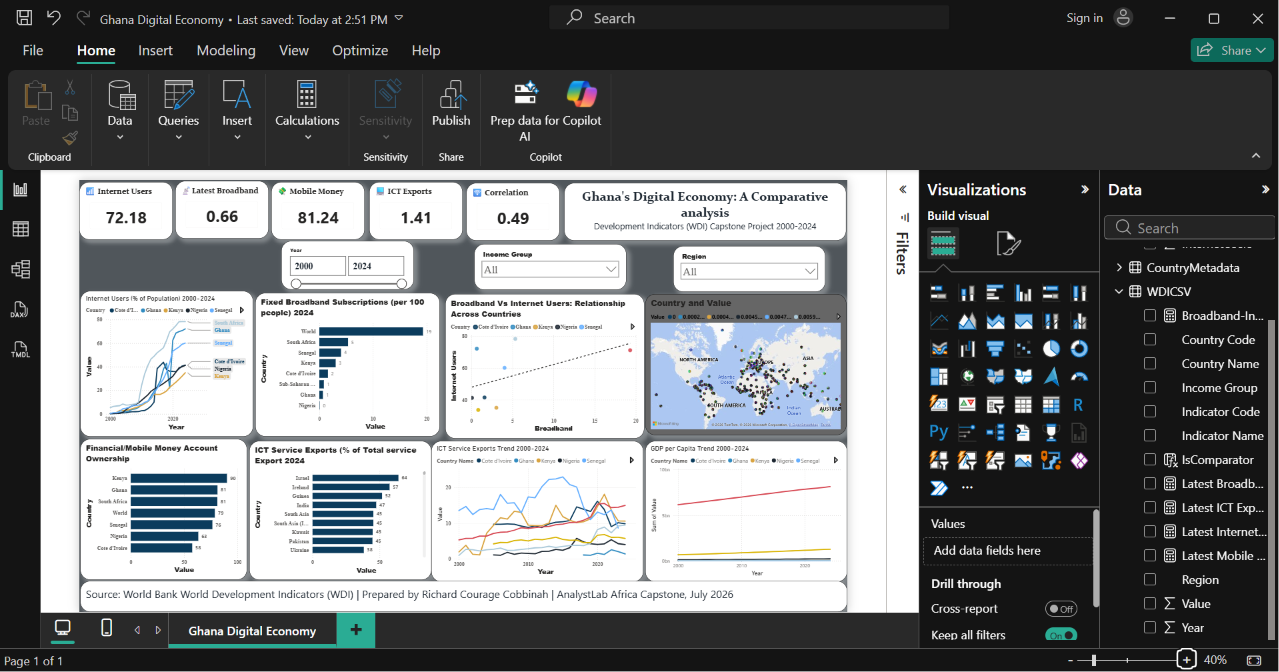

Layout of this report page (visuals, bound fields, positions):
{"tool":"powerbi","page":{"name":"Page 1","canvas":[1920,1080],"ordinal":0},"visuals":[{"type":"cardVisual","title":"📶 Internet Users","fields":{"Data":["WDICSV.Latest Internet Users"]},"box":[0,4,233.3,144],"z":0},{"type":"cardVisual","title":"📡Latest Broadband","fields":{"Data":["WDICSV.Latest Broadband"]},"box":[240.5,3.4,233.6,144],"z":1000},{"type":"cardVisual","title":"💸 Mobile Money","fields":{"Data":["WDICSV.Latest Mobile Money"]},"box":[480.4,5.4,233,143.8],"z":2000},{"type":"cardVisual","title":"💻 ICT Exports","fields":{"Data":["WDICSV.Latest ICT Exports"]},"box":[725.9,4.6,233,144],"z":3000},{"type":"lineChart","title":"Internet Users (% of Population) 2000-2024","fields":{"Category":["WDICSV.Year"],"Y":["Sum(WDICSV.Value)"],"Series":["WDICSV.Country Name"]},"box":[3.6,278.6,432.1,364.3],"z":4000},{"type":"clusteredBarChart","title":"Financial/Mobile Money Account Ownership","fields":{"Category":["WDICSV.Country Name"],"Y":["Sum(WDICSV.Value)"]},"box":[2.7,648.2,417,351.8],"z":5000},{"type":"clusteredBarChart","title":"Fixed Broadband Subscriptions (per 100 people) 2024","fields":{"Category":["WDICSV.Country Name"],"Y":["Sum(WDICSV.Value)"]},"box":[438.9,283.3,461.1,358.3],"z":6000},{"type":"clusteredBarChart","title":"ICT Service Exports (% of Total service Export 2024","fields":{"Category":["WDICSV.Country Name"],"Y":["Sum(WDICSV.Value)"]},"box":[425,652.8,455.6,347.2],"z":7000},{"type":"textbox","box":[1213.6,8,704.5,144.3],"z":8000},{"type":"scatterChart","title":"Broadband Vs Internet Users: Relationship Across Countries","fields":{"X":["Sum(ComparatorSummary.Broadband)"],"Y":["Sum(ComparatorSummary.InternetUsers)"],"Series":["ComparatorSummary.Country Name"]},"box":[913.9,286.1,497.2,361.1],"z":9000},{"type":"lineChart","title":"ICT Service Exports Trend 2000-2024","fields":{"Category":["WDICSV.Year"],"Y":["Sum(WDICSV.Value)"],"Series":["WDICSV.Country Name"]},"box":[880.8,651.9,529.8,351.9],"z":10000},{"type":"lineChart","title":"GDP per Capita Trend  2000-2024","fields":{"Category":["WDICSV.Year"],"Y":["Sum(WDICSV.Value)"],"Series":["WDICSV.Country Name"]},"box":[1415.4,651.9,504.8,351.9],"z":11000},{"type":"cardVisual","title":"🛜 Correlation","fields":{"Data":["WDICSV.Broadband-Internet Correlation"]},"box":[967.6,8.3,233,144],"z":12000},{"type":"slicer","fields":{"Values":["WDICSV.Region"]},"box":[1485.6,164.4,379.8,114.4],"z":13000},{"type":"slicer","fields":{"Values":["WDICSV.Income Group"]},"box":[988.5,160.6,379.8,114.4],"z":14000},{"type":"slicer","fields":{"Values":["WDICSV.Year"]},"box":[504.3,153.4,331,121.6],"z":15000},{"type":"map","fields":{"Category":["WDICSV.Country Name"],"Series":["WDICSV.Value"]},"box":[1413.9,286.1,502.8,352.8],"z":17000},{"type":"textbox","box":[2.9,1002.9,1917.1,77.1],"z":18000}]}

Visuals, with their boxes on the page's 1920x1080 design canvas (x1, y1, x2, y2). These are canvas units, not pixel positions in the 1279x672 screenshot, which may show the page scaled, cropped or inside an application window:
"📶 Internet Users" cardVisual: [0,4,233,148]
"📡Latest Broadband" cardVisual: [240,3,474,147]
"💸 Mobile Money" cardVisual: [480,5,713,149]
"💻 ICT Exports" cardVisual: [726,5,959,149]
"Internet Users (% of Population) 2000-2024" lineChart: [4,279,436,643]
"Financial/Mobile Money Account Ownership" clusteredBarChart: [3,648,420,1000]
"Fixed Broadband Subscriptions (per 100 people) 2024" clusteredBarChart: [439,283,900,642]
"ICT Service Exports (% of Total service Export 2024" clusteredBarChart: [425,653,881,1000]
textbox: [1214,8,1918,152]
"Broadband Vs Internet Users: Relationship Across Countries" scatterChart: [914,286,1411,647]
"ICT Service Exports Trend 2000-2024" lineChart: [881,652,1411,1004]
"GDP per Capita Trend  2000-2024" lineChart: [1415,652,1920,1004]
"🛜 Correlation" cardVisual: [968,8,1201,152]
slicer - WDICSV.Region: [1486,164,1865,279]
slicer - WDICSV.Income Group: [988,161,1368,275]
slicer - WDICSV.Year: [504,153,835,275]
map - WDICSV.Country Name x WDICSV.Value: [1414,286,1917,639]
textbox: [3,1003,1920,1080]
